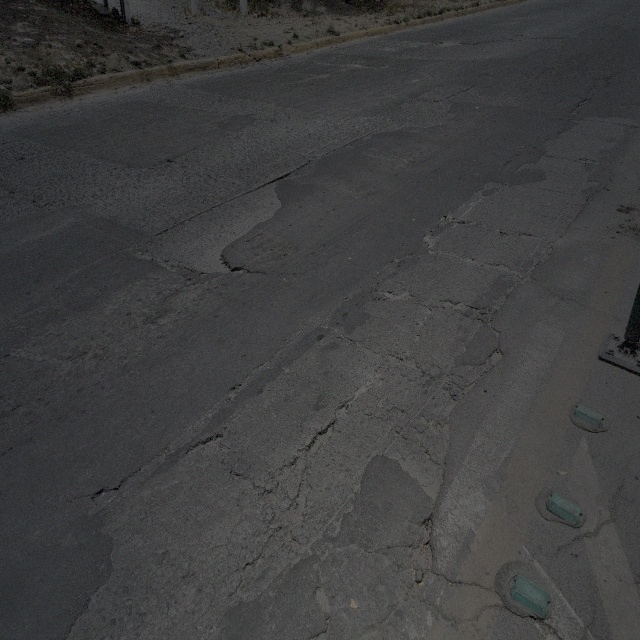pothole: (260, 486, 310, 526), (301, 415, 336, 463), (337, 378, 371, 418), (185, 430, 224, 459), (204, 252, 246, 278), (87, 484, 120, 516), (411, 538, 433, 579), (386, 352, 417, 372), (442, 297, 477, 314), (381, 287, 414, 303), (428, 417, 453, 438), (440, 210, 471, 226), (487, 340, 502, 373), (314, 586, 331, 615), (514, 270, 533, 290), (422, 232, 438, 255), (228, 383, 244, 403), (462, 377, 478, 396), (160, 258, 176, 274), (415, 426, 424, 450), (494, 262, 511, 272)
